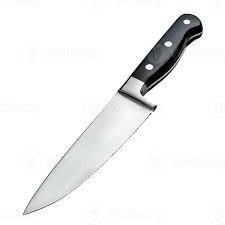Knife: (22, 12, 203, 215)
